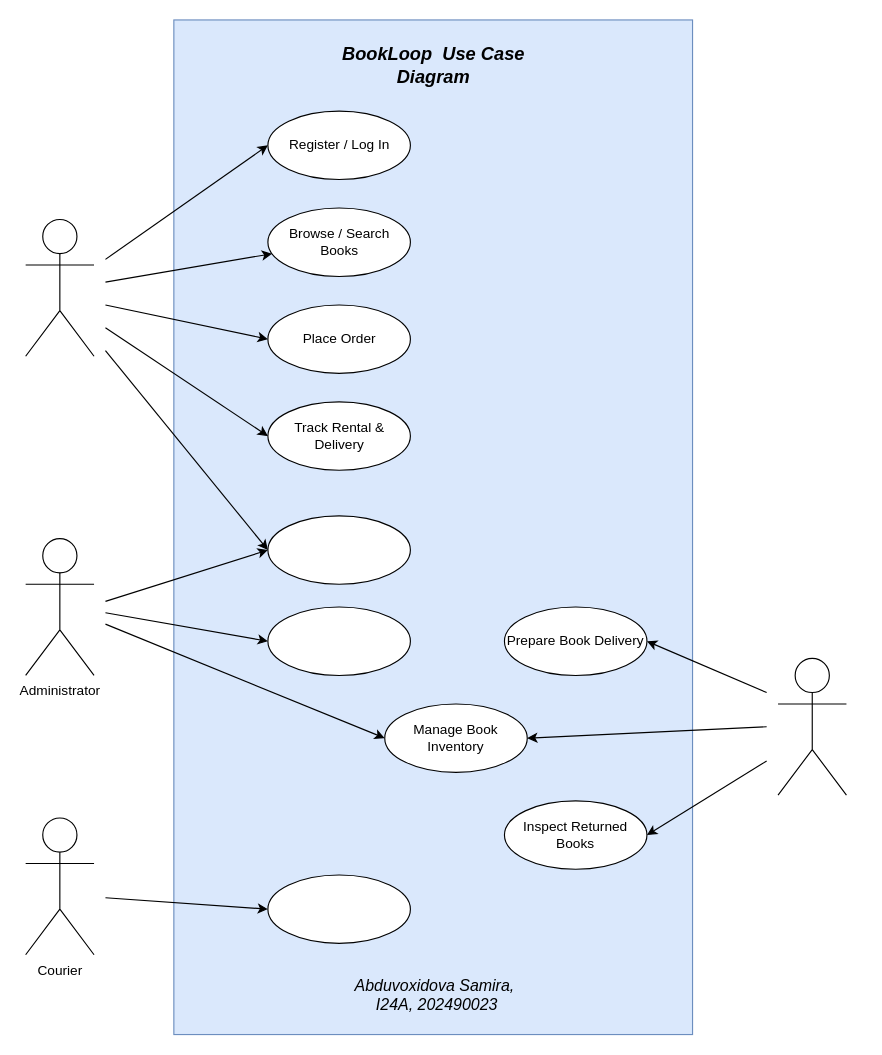
This 882x1055 diagram has some shape labels left out. The shapes that lost their labels are listed below. From the top down, each one's box as (x1, y1, x2, y2) in pixels, then its label:
(25, 218, 94, 356): Customer
(267, 515, 410, 584): Manage Membership
(267, 606, 410, 675): Manage Orders
(777, 657, 846, 795): Warehouse Staff
(267, 874, 410, 943): Confirm Delivery & Collection
